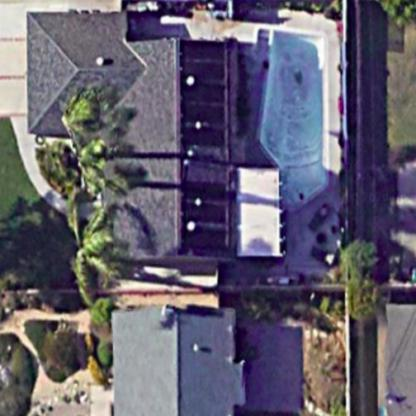solar_panel: (175, 34, 232, 161), (176, 176, 232, 258)
swimming_pool: (246, 22, 344, 207)
